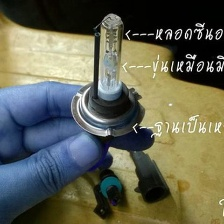light_bulb: (68, 9, 149, 145)
